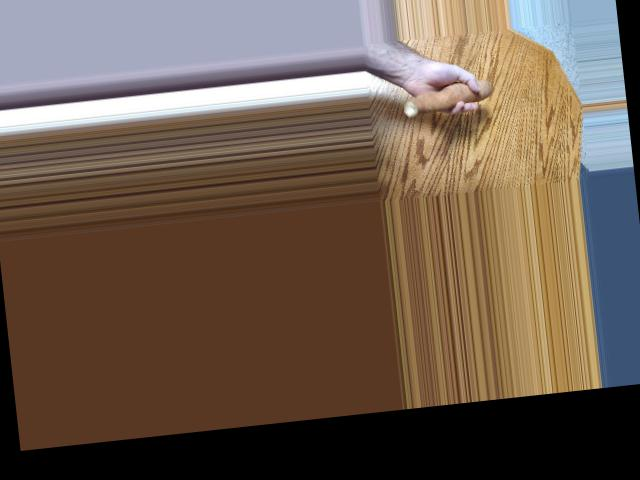sweet_potato: (398, 73, 502, 115)
